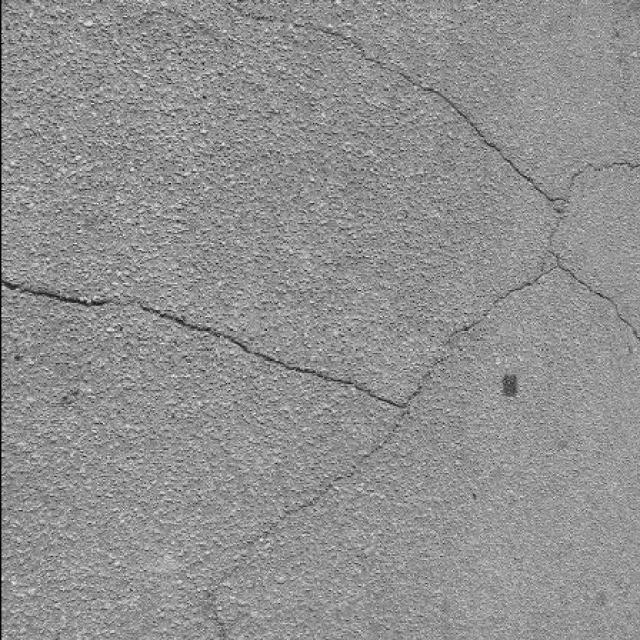Crack: (0, 1, 638, 638)
